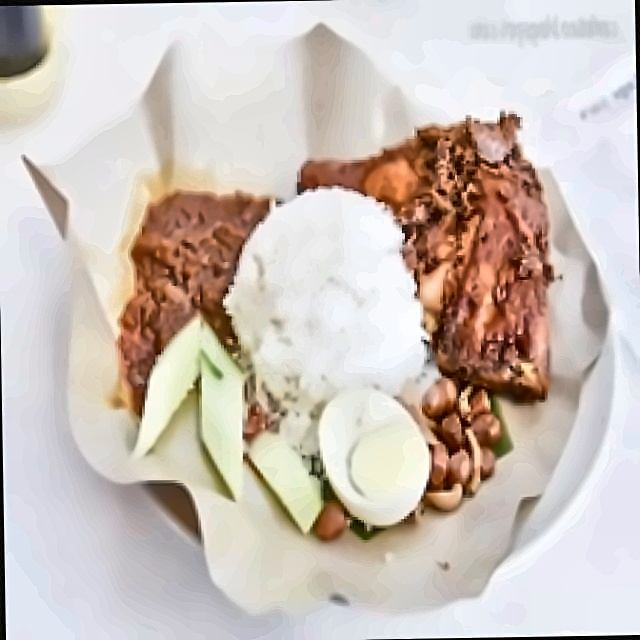cucumber_slice: (198, 315, 248, 499), (248, 428, 324, 530)
egg: (319, 386, 435, 528)
rice: (223, 184, 435, 536)
